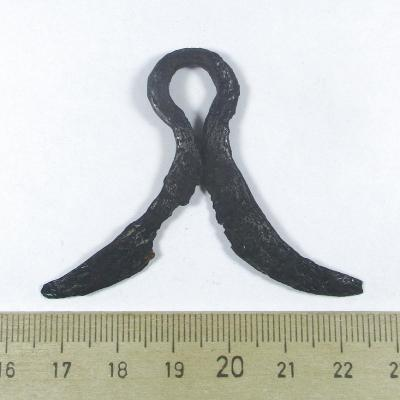archeology: (40, 48, 364, 300)
